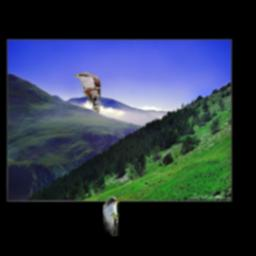Cuckoo: (73, 73, 100, 114), (103, 196, 119, 236)
